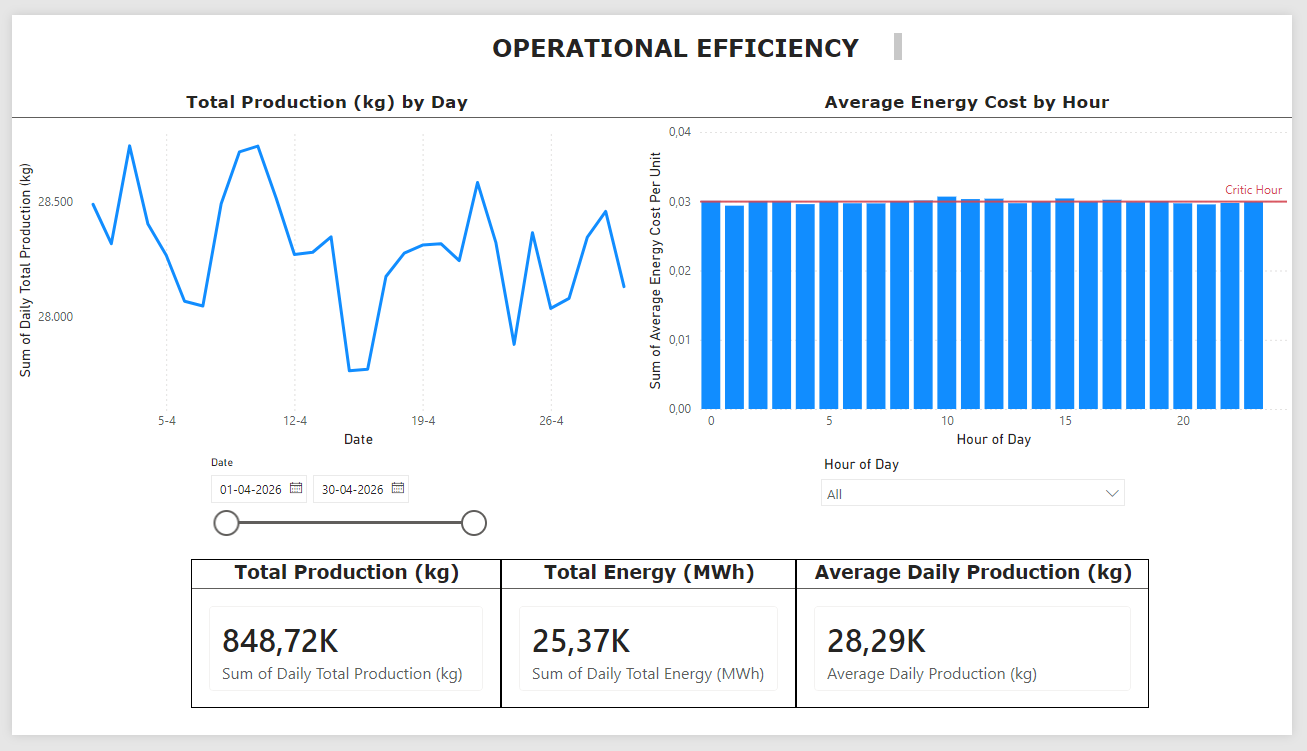

The dashboard page shown, as its layout file describes it:
{"tool":"powerbi","page":{"name":"Page 1","canvas":[1280,720],"ordinal":0},"visuals":[{"type":"lineChart","title":"Total Production (kg) by Day","fields":{"Y":["Sum(Daily Reports.Daily_Total_Production_kg)"],"Category":["Daily Reports.Date"]},"box":[0,75.8,630.3,359.9],"z":0},{"type":"cardVisual","title":"Total Energy (MWh)","fields":{"Data":["Sum(Daily Reports.Daily_Total_Energy_MWh)"]},"box":[489.2,543.7,294.7,149.8],"z":1000},{"type":"clusteredColumnChart","title":"Average Energy Cost by Hour","fields":{"Category":["Hourly Reports.Hour_of_Day"],"Y":["Sum(Hourly Reports.Avg_Energy_Cost_Per_Unit)"]},"box":[630.3,75.8,649.7,359.9],"z":2000},{"type":"slicer","fields":{"Values":["Daily Reports.Date"]},"box":[185.8,435.7,297.6,93.4],"z":3000},{"type":"slicer","fields":{"Values":["Hourly Reports.Hour of Day"]},"box":[798.5,435.7,324.9,93.4],"z":4000},{"type":"textbox","box":[439.6,12.6,455.2,37.9],"z":5000},{"type":"cardVisual","title":"Average Daily Production (kg)","fields":{"Data":["Avg(Daily Reports.Daily Total Production (kg))"]},"box":[784,543.7,353.1,149.8],"z":6000},{"type":"cardVisual","title":"Total Production (kg)","fields":{"Data":["Sum(Daily Reports.Daily Total Production (kg))"]},"box":[179,543.7,310.3,149.8],"z":7000}]}

Visuals, with their boxes in screenshot pixels (x1, y1, x2, y2), scaled from the page's 1280x720 canvas onto the 1307x751 screenshot:
"Total Production (kg) by Day" lineChart: select_region(0, 79, 644, 454)
"Total Energy (MWh)" cardVisual: select_region(500, 567, 800, 723)
"Average Energy Cost by Hour" clusteredColumnChart: select_region(644, 79, 1306, 454)
slicer - Daily Reports.Date: select_region(190, 454, 494, 552)
slicer - Hourly Reports.Hour of Day: select_region(815, 454, 1147, 552)
textbox: select_region(449, 13, 914, 53)
"Average Daily Production (kg)" cardVisual: select_region(801, 567, 1161, 723)
"Total Production (kg)" cardVisual: select_region(183, 567, 500, 723)
